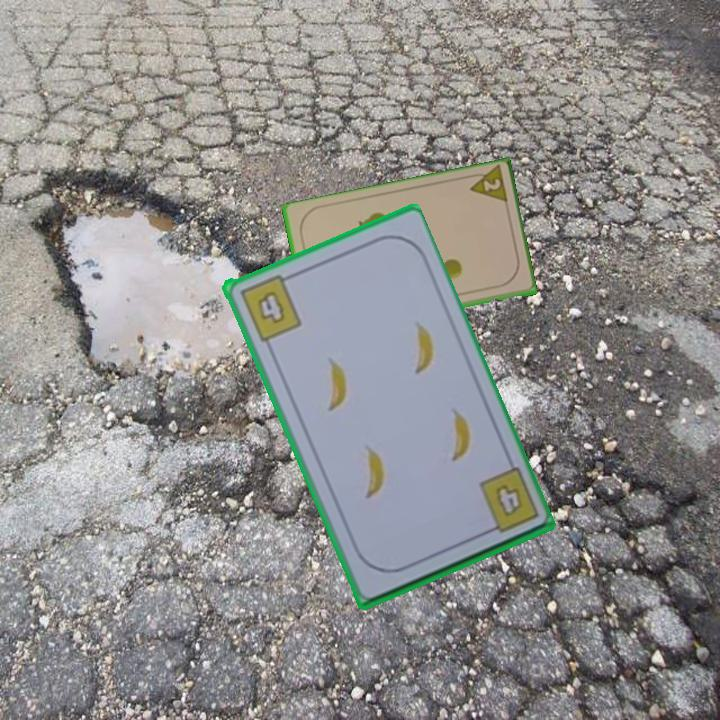2p: (463, 164, 510, 208)
4b: (235, 270, 304, 344), (491, 480, 525, 516)
